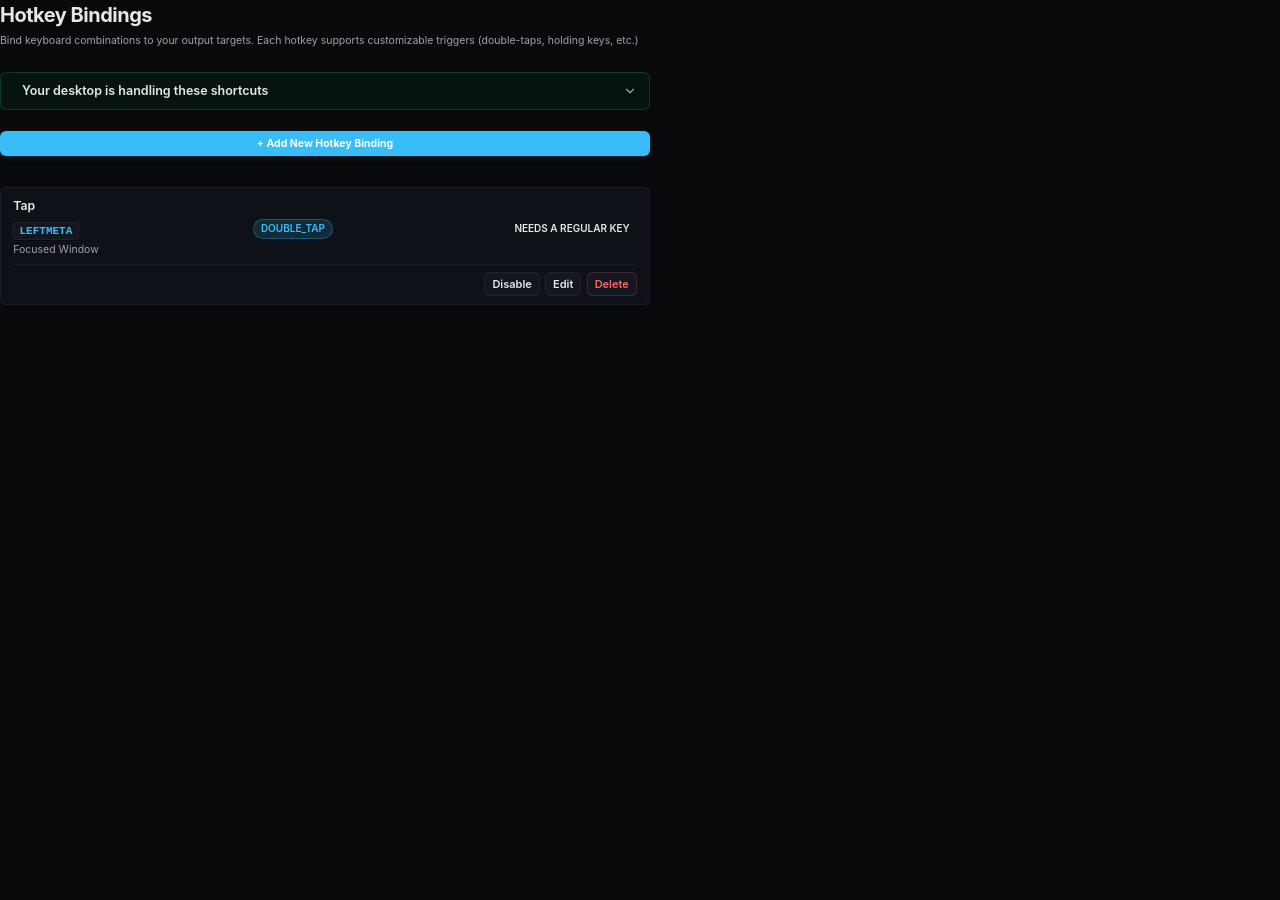
Test: HotkeysTab.svelte Conflict Detection and Nested Modal › offers only the four supported gestures
This screenshot has width=1280, height=900.
Click the button "Edit".
click(563, 284)  # box [545,272,581,296]
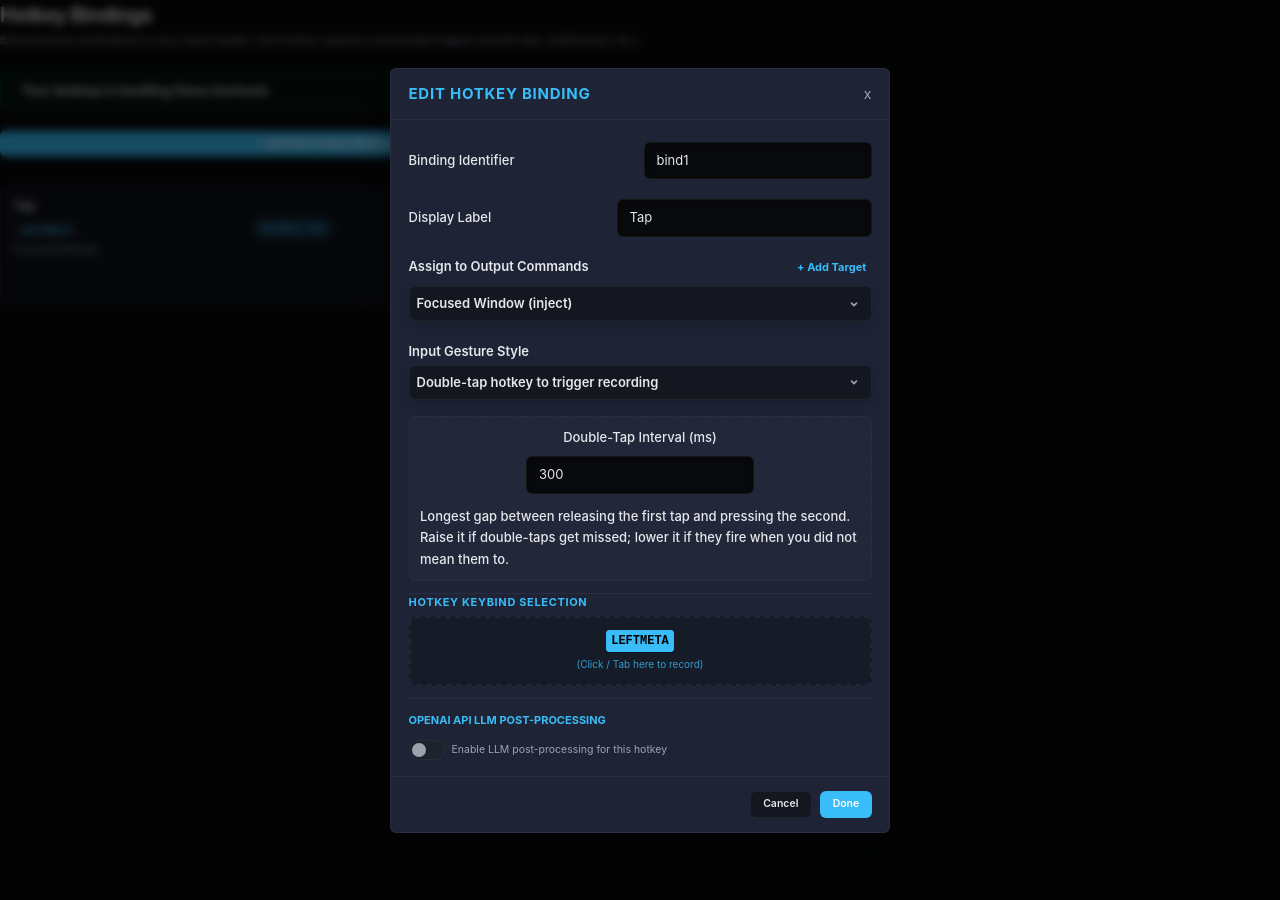
Expected: the heading "Edit Hotkey Binding" is shown, [408,82,590,105]
Expected: the button "Double-tap hotkey to trigger recording" is shown, [408,364,872,400]
